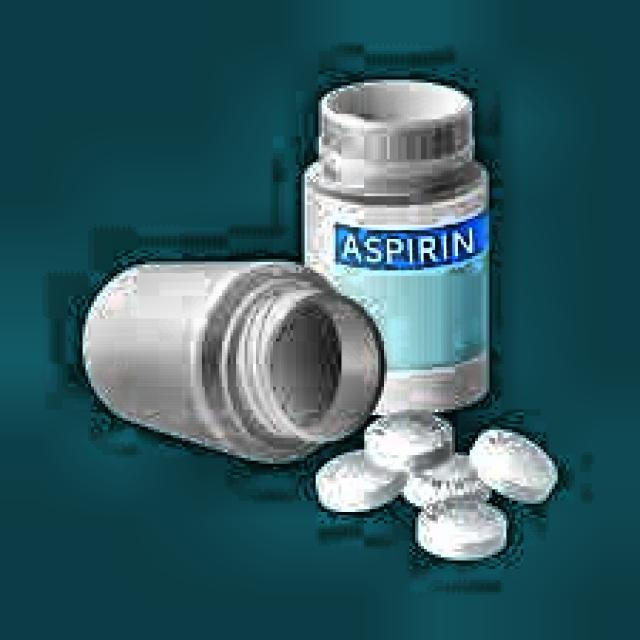Aspirin: (335, 210, 492, 270)
